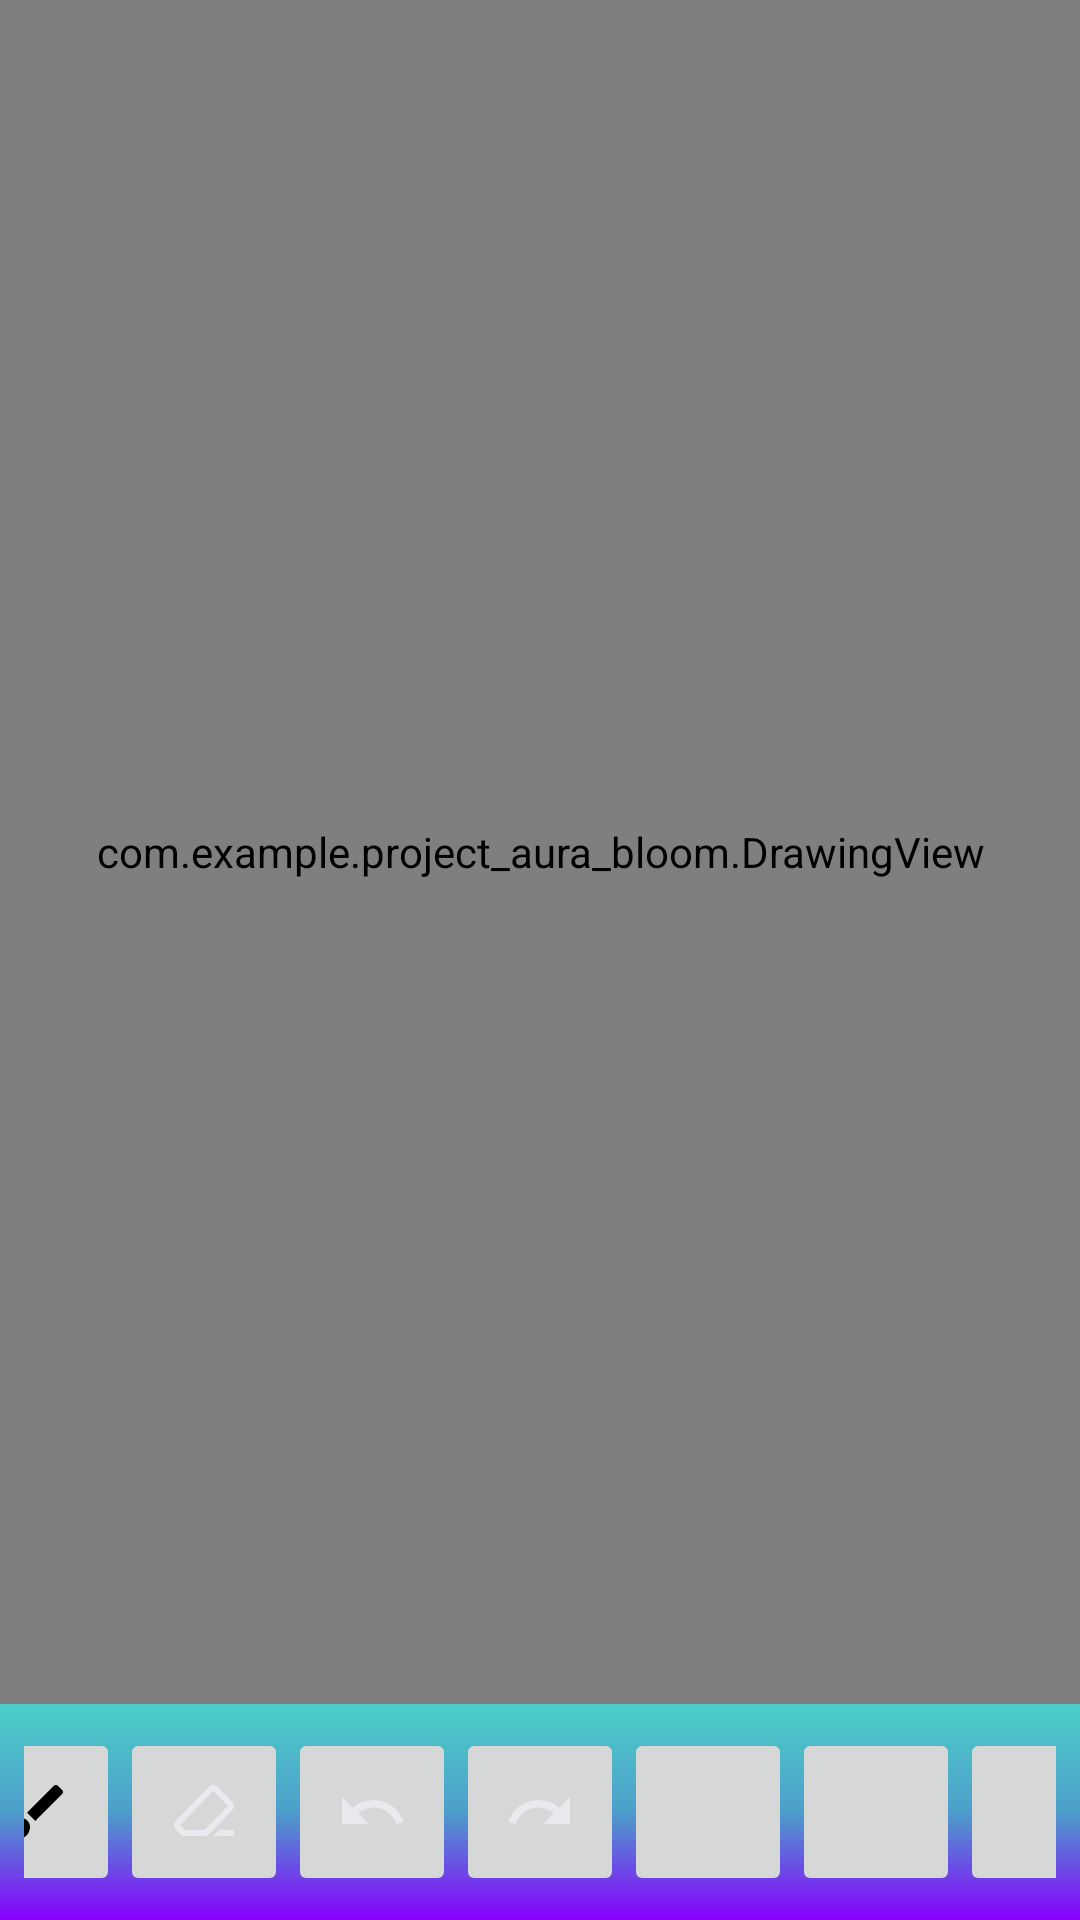

Screen size 1080px x 1920px. Icon name, then its center in pixels as point (x, y):
Eraser Button: point (204, 1812)
Redo Button: point (540, 1812)
Undo Button: point (372, 1812)
